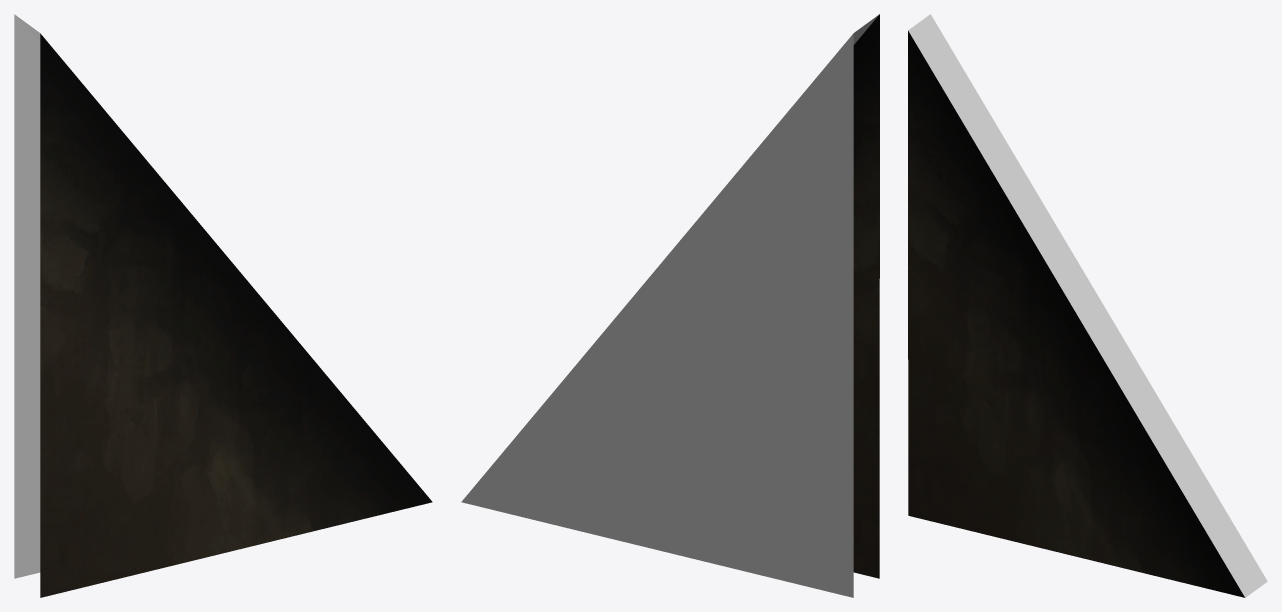
Rendered from fortress_fade_transition_03.fbx.
3 views of the same model, side by side, from view 1: azimuth 30°, elevation 25°; view 2: azimuth 150°, elevation 25°; view 3: azimuth 330°, elevation 25° (orthographic). The views are drawn at different scales.
Parts seen in each view (by area): view 1: fortress_fade_transition_03-0; view 2: fortress_fade_transition_03-0; view 3: fortress_fade_transition_03-0.
Boxes of the visible parts, x1=… form: fortress_fade_transition_03-0: x1=14, y1=14, x2=432, y2=597; fortress_fade_transition_03-0: x1=461, y1=14, x2=879, y2=597; fortress_fade_transition_03-0: x1=908, y1=14, x2=1267, y2=597.
Bounding box in the file's own units: 4 × 5.5 × 0.462.
